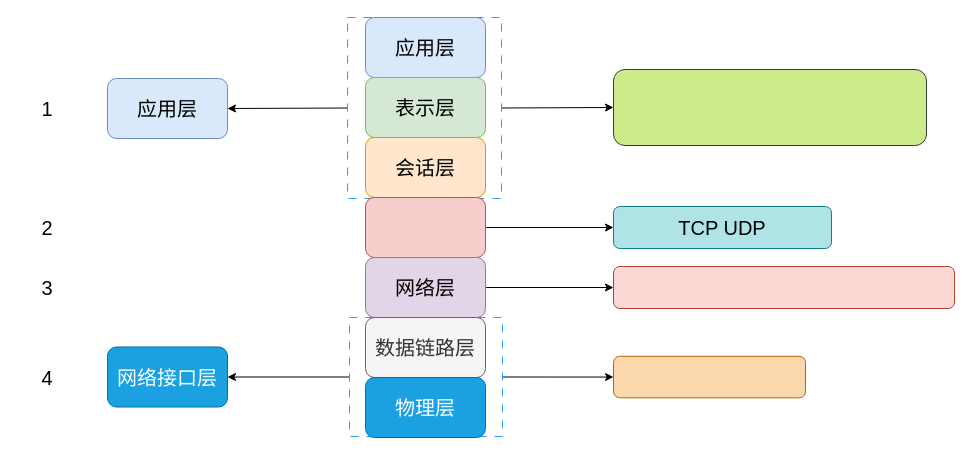
Some shapes in this 972 by 455 pixel diagram are drawn without their labels. The centre of each missing label's shape, as x and y in pixels:
"HTTP DNS FTP Telnet DCHP SMTP POP3 IMAP SSH" goes at (x=769, y=107).
"IP ARP ICMP NET RIP OSPF BGP" goes at (x=783, y=287).
"MAC CSMA/CD" goes at (x=709, y=376).
"传输层" goes at (x=425, y=227).
